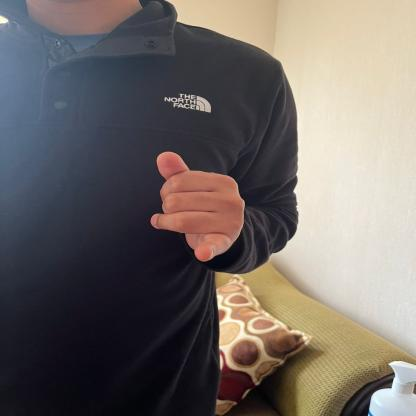Z: (148, 145, 251, 266)
